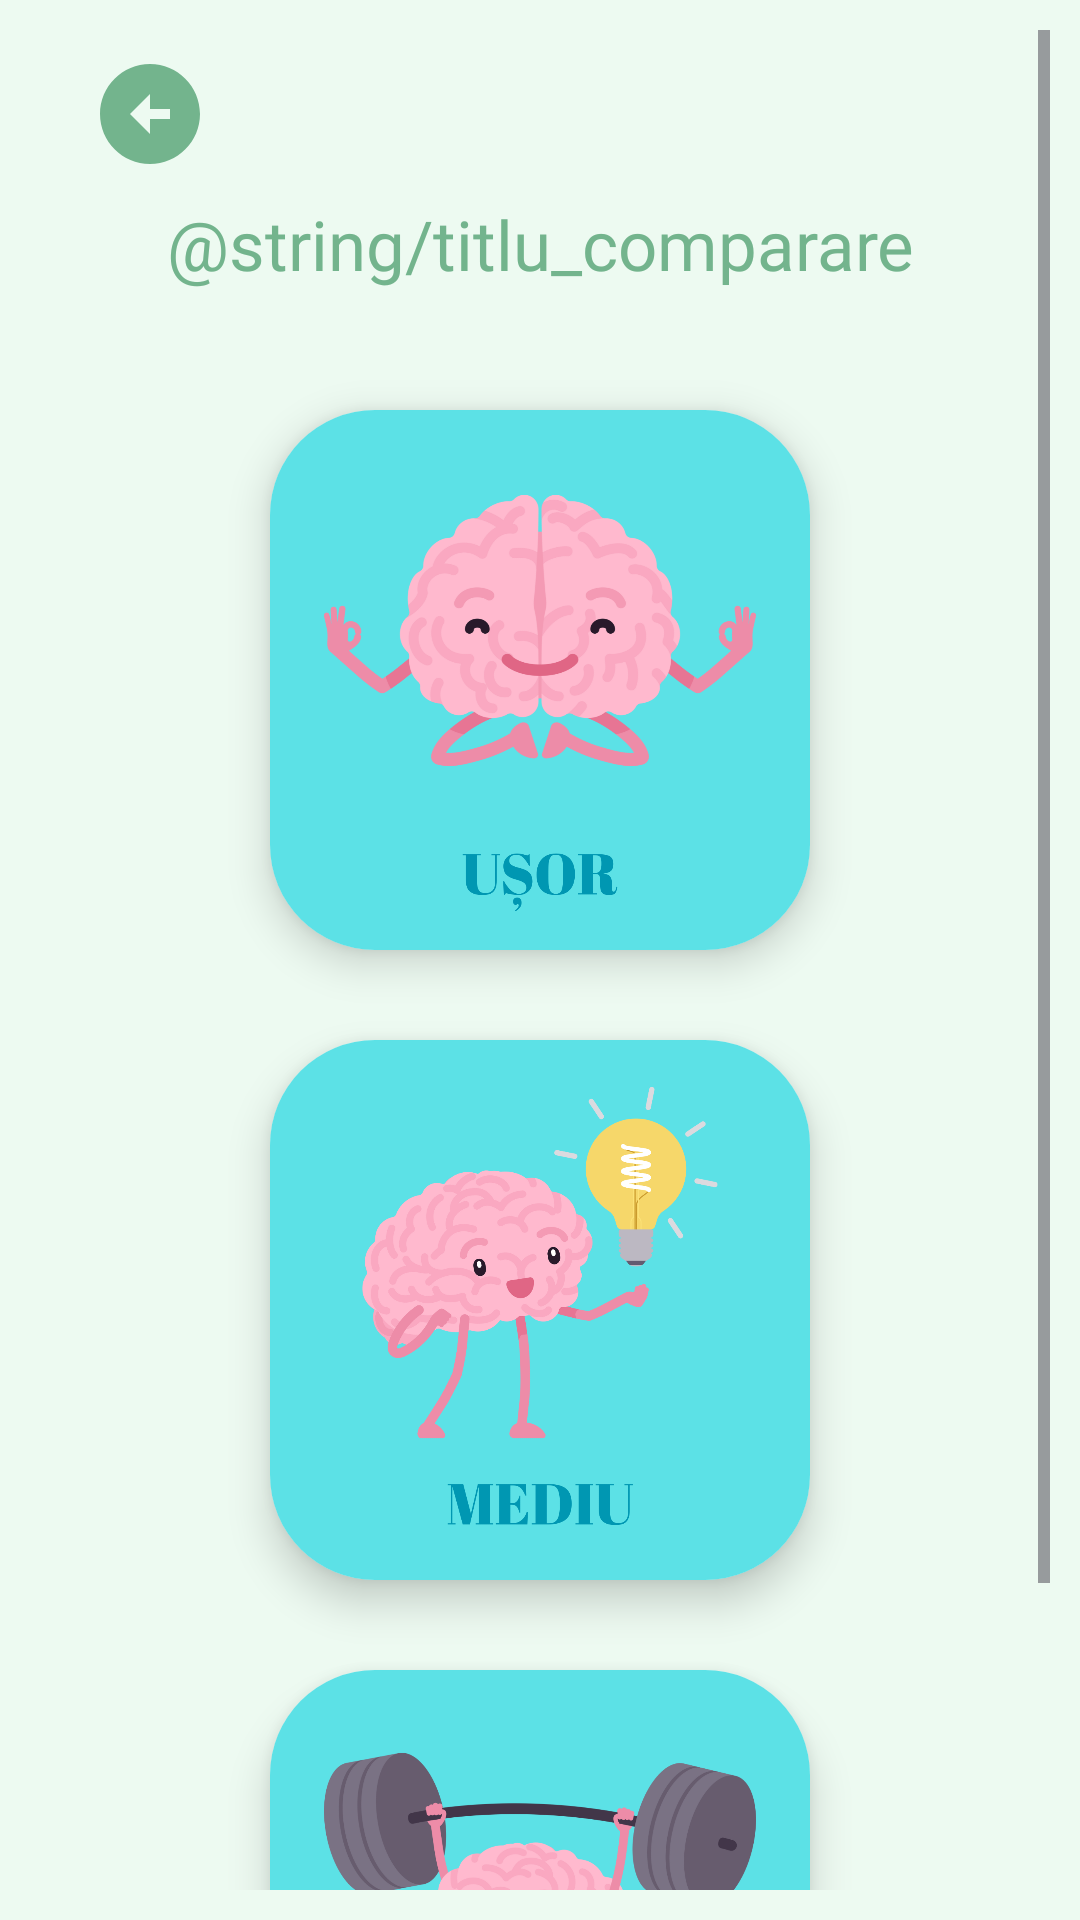

Screen size 1080×1920. Icon name, then its center in pixels as [x,y]:
Înapoi: [150,114]
